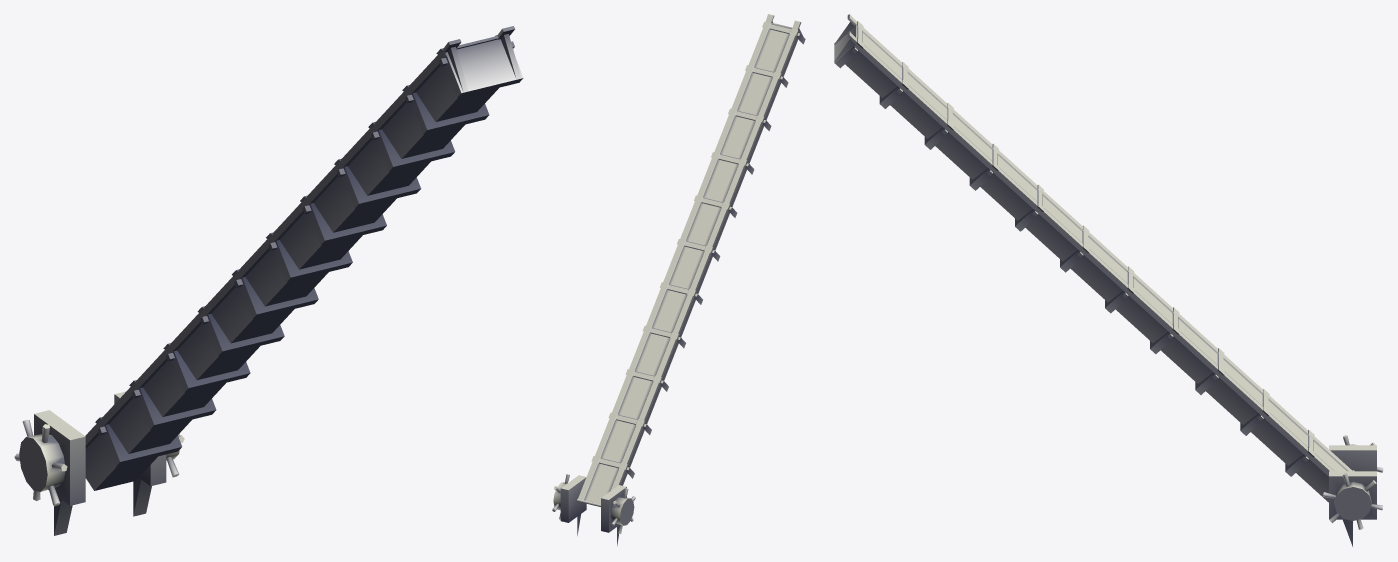
Rendered from Drawbridge.gltf.
3 renders of one model, left to right at view 1: azimuth 30°, elevation 25°; view 2: azimuth 150°, elevation 25°; view 3: azimuth 270°, elevation 25°, orthographic. The views are drawn at different scales.
Parts seen in each view (by area): view 1: DrawbridgeBridgeMesh, DrawbridgeStaticMesh, DrawbridgeCogMesh; view 2: DrawbridgeBridgeMesh, DrawbridgeStaticMesh, DrawbridgeCogMesh; view 3: DrawbridgeBridgeMesh, DrawbridgeStaticMesh, DrawbridgeCogMesh.
Part boxes in pixels (bbox=[...]): DrawbridgeBridgeMesh: bbox=[85, 26, 523, 490]; DrawbridgeStaticMesh: bbox=[34, 391, 166, 535]; DrawbridgeCogMesh: bbox=[14, 419, 184, 506]; DrawbridgeBridgeMesh: bbox=[577, 14, 805, 506]; DrawbridgeStaticMesh: bbox=[560, 475, 626, 545]; DrawbridgeCogMesh: bbox=[552, 474, 635, 534]; DrawbridgeBridgeMesh: bbox=[834, 14, 1354, 502]; DrawbridgeStaticMesh: bbox=[1329, 445, 1376, 546]; DrawbridgeCogMesh: bbox=[1322, 435, 1383, 529].
Bounding box in the file's own units: 6.38 × 35.2 × 34.44.
